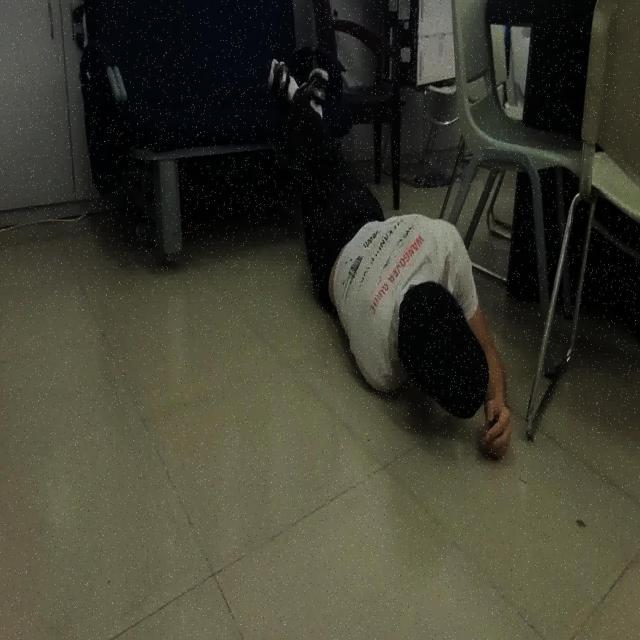fall: (266, 53, 514, 469)
